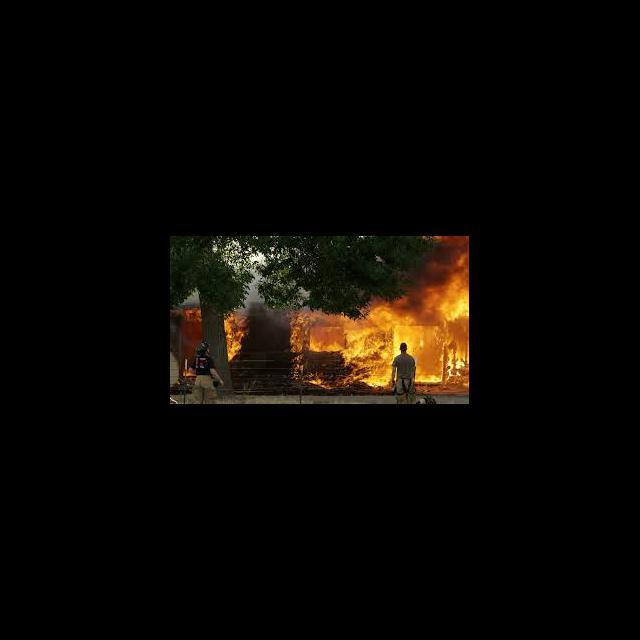Fire: (284, 236, 468, 394), (223, 314, 252, 362), (182, 306, 201, 358), (183, 368, 195, 378)
